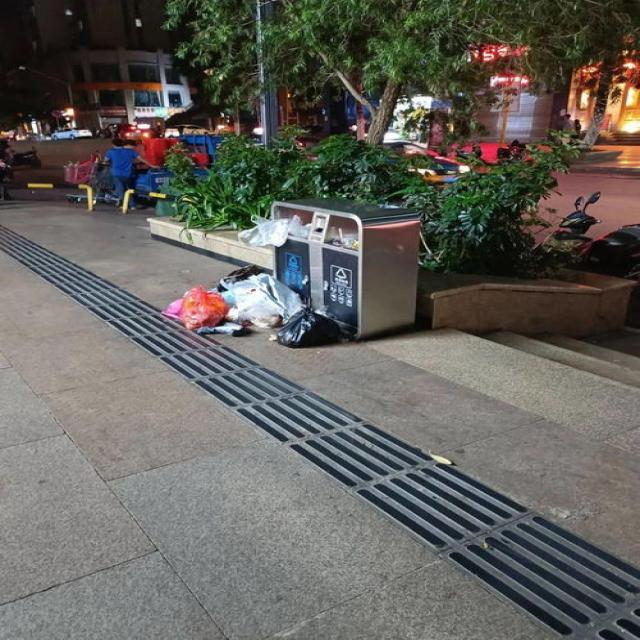garbage: (161, 265, 343, 347)
overflow: (238, 195, 421, 336)
